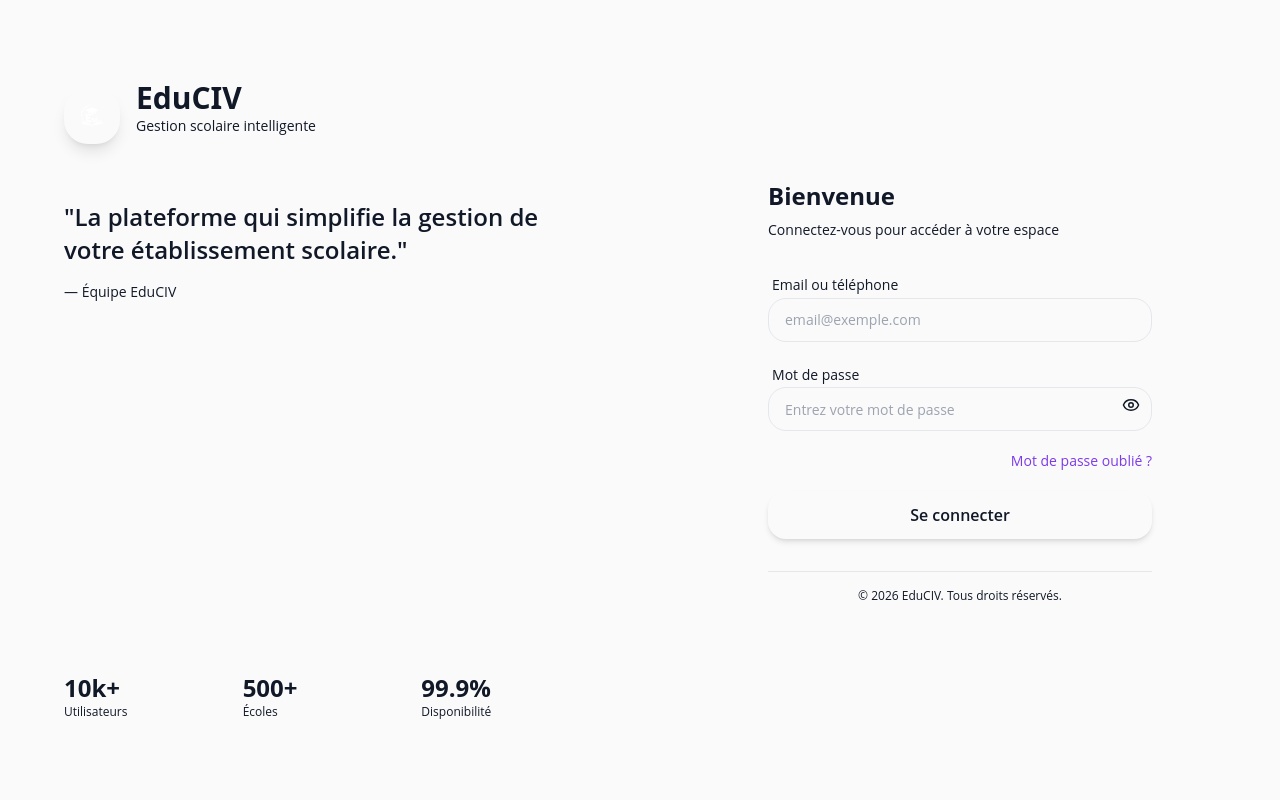
Scenario: LoginPage › shows validation errors for empty fields
Click the button "Se connecter".
click(960, 515)  # box [768,491,1152,539]
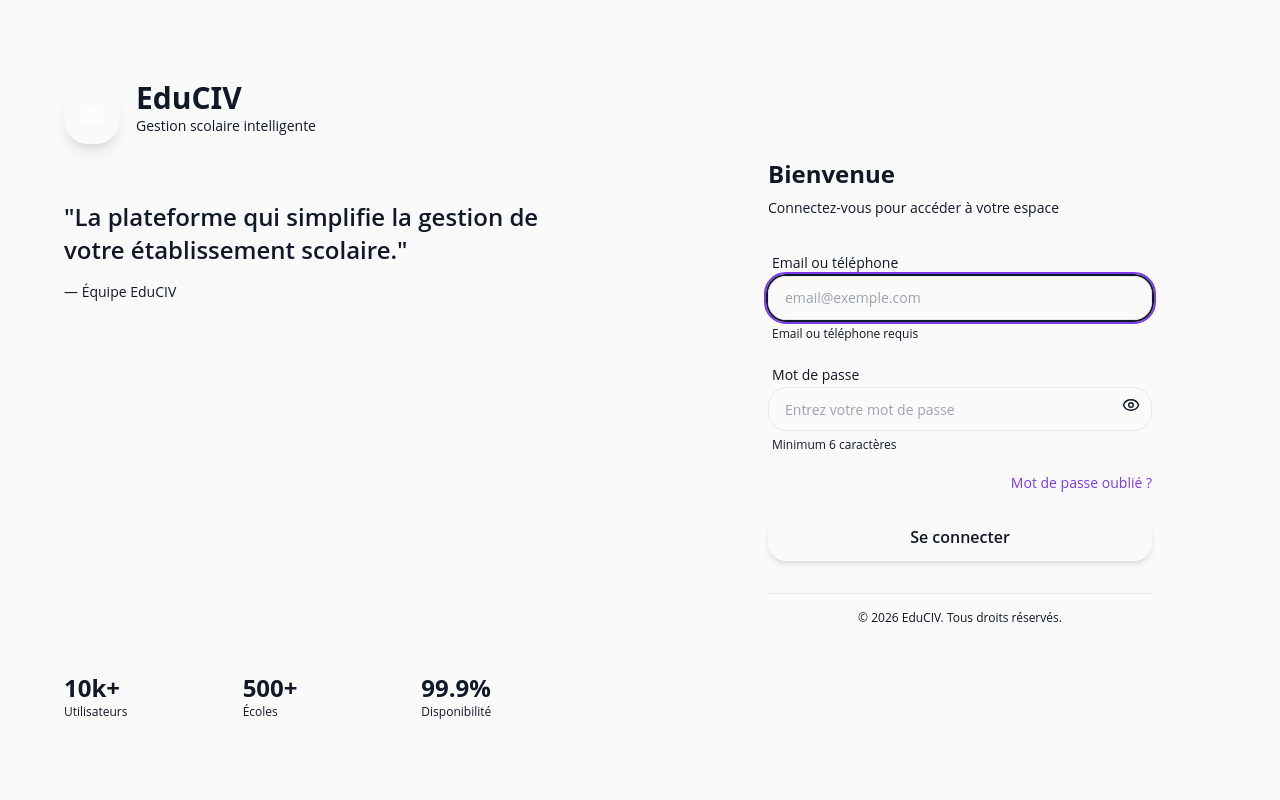
Check: the text "Email ou téléphone requis" is shown, box [772,324,918,342]
